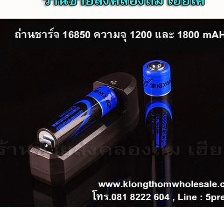battery: (34, 82, 121, 155), (138, 56, 176, 159)
